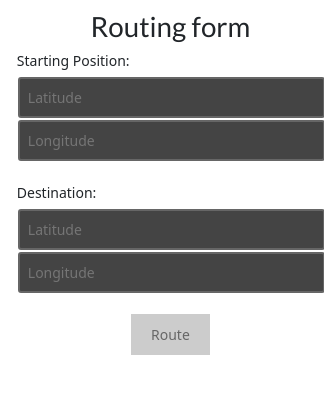
Test case: invalid coordinates give error message
Type "999" into the field with placeholder "Longitude" below "Destination".
click(171, 273); type("999")  # box left=18, top=252, right=324, bottom=293
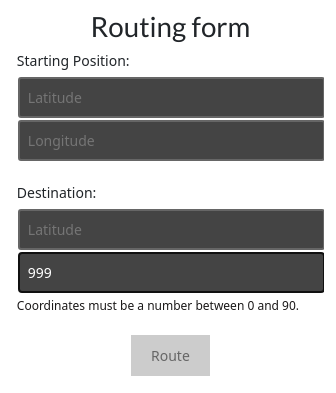
Check: the text "Coordinates must be a number between 0 and 90." is shown, box left=17, top=297, right=299, bottom=314
